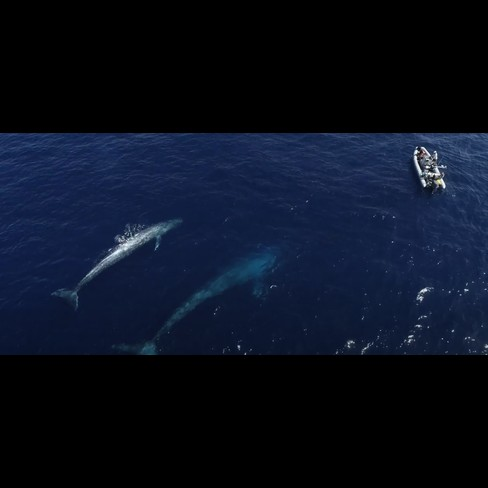bluewhale: (110, 241, 300, 356), (49, 213, 188, 315)
boat: (408, 143, 448, 194)
